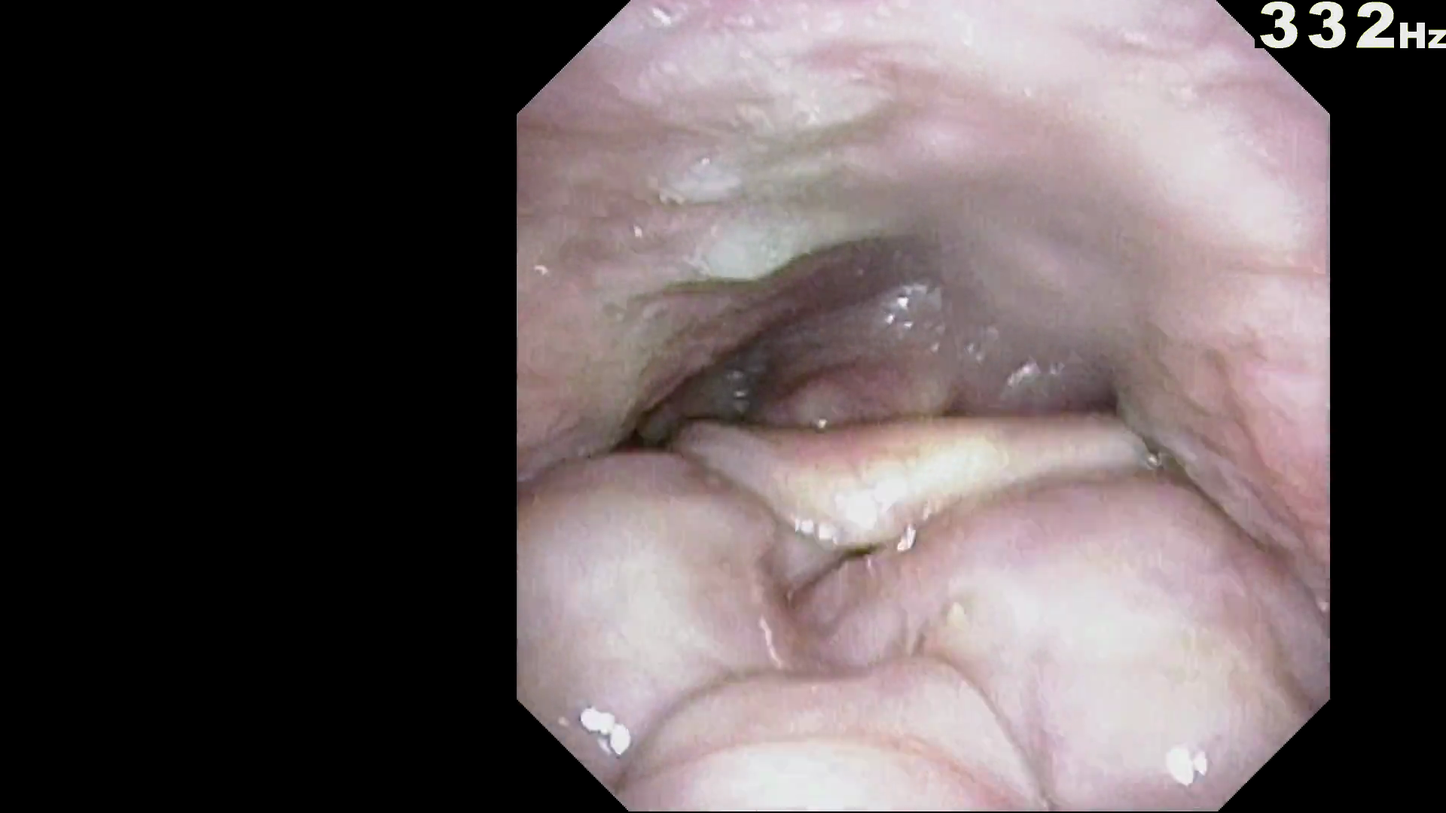epiglottis: (652, 415, 1123, 544)
trachea: (859, 417, 982, 514)
